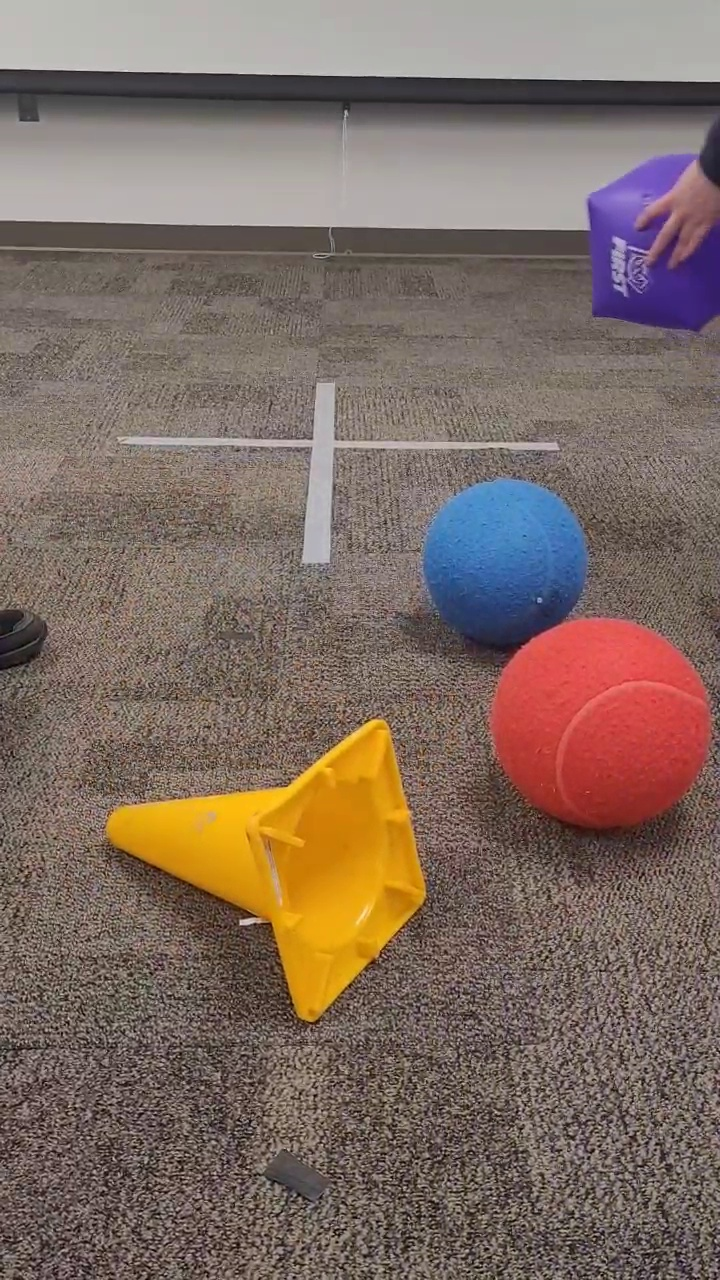ball: (485, 615, 713, 834), (422, 476, 589, 652)
cone: (101, 709, 430, 1025)
cube: (581, 150, 720, 336)
foot: (1, 603, 51, 678)
hand: (631, 108, 720, 274)
